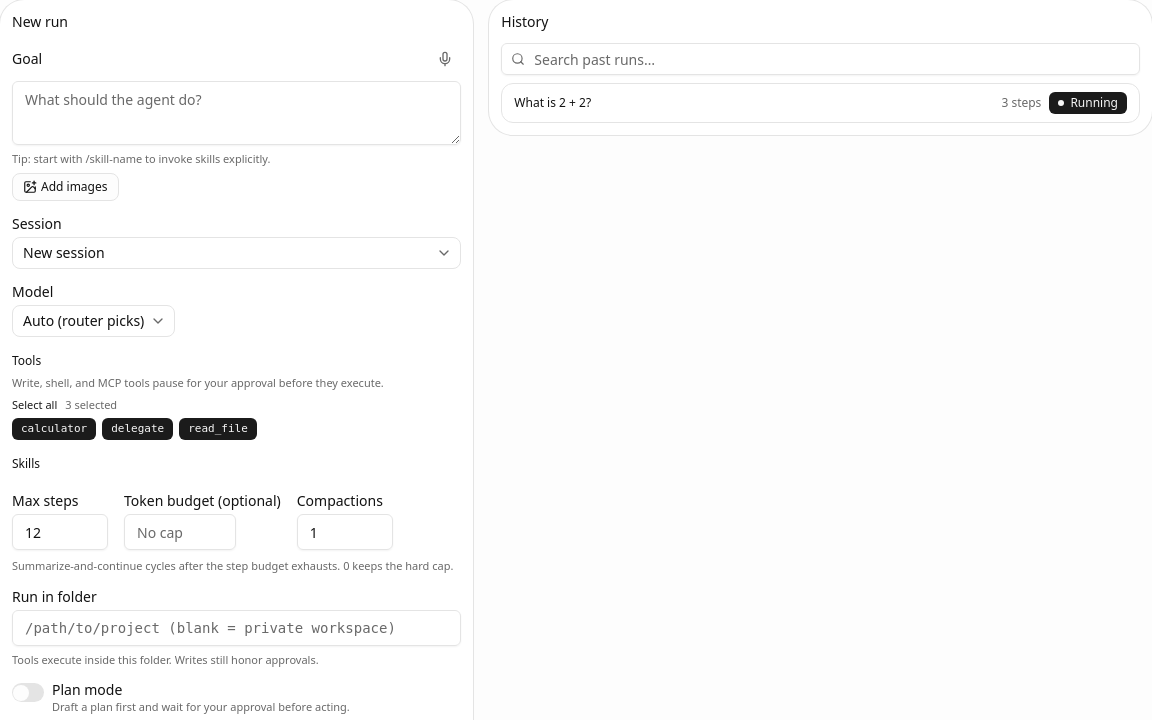
Test: disables restore while the run is live
Click the button "What is 2 + 2? 3 steps Running": (553, 103) [501,83,1140,123]
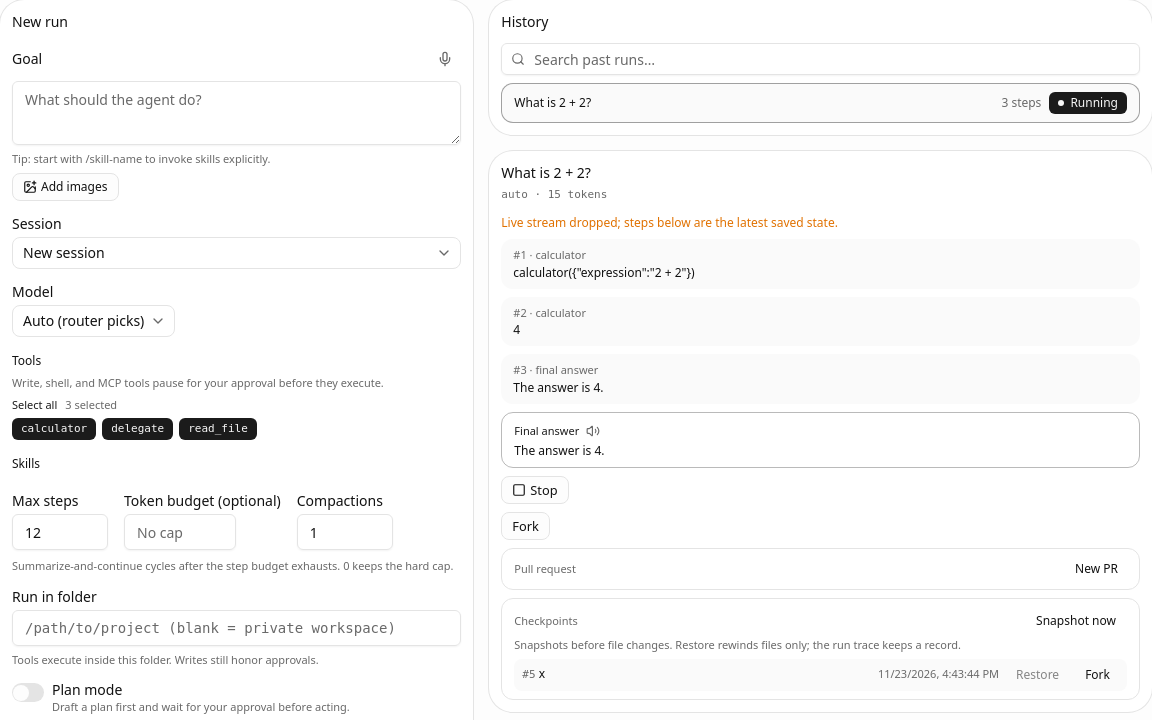
Check: the button "Restore" is disabled, box [1007,663,1068,687]
